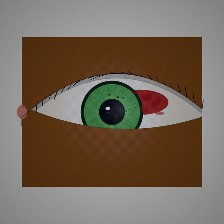hemorrhage_spot: (102, 72, 179, 133)
